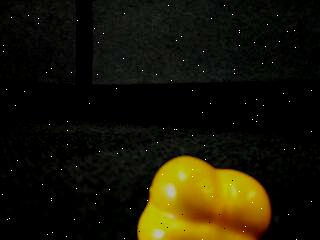Capsicum: (132, 153, 276, 240)
